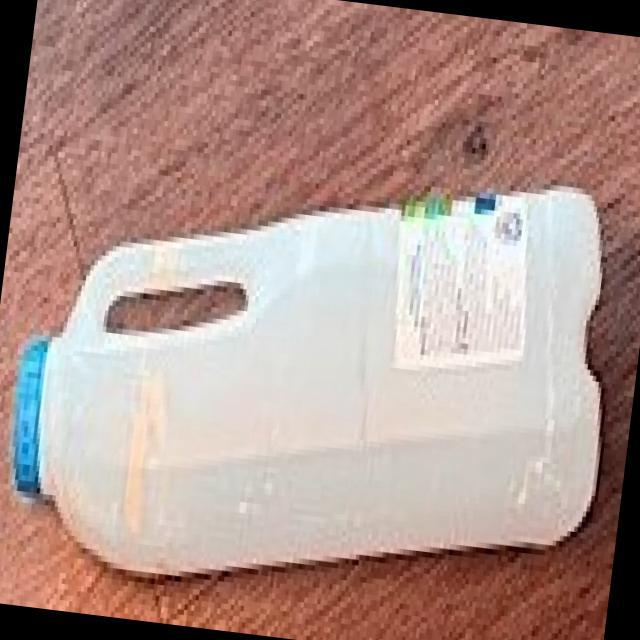HDPE Plastic: (8, 180, 608, 584)
